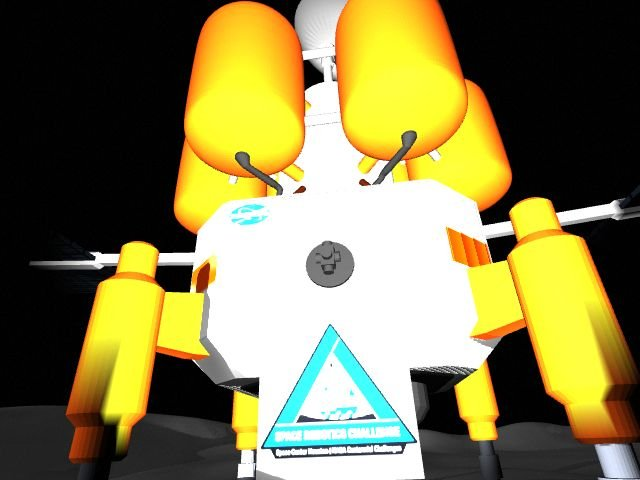basemarker: (260, 323, 420, 460)
